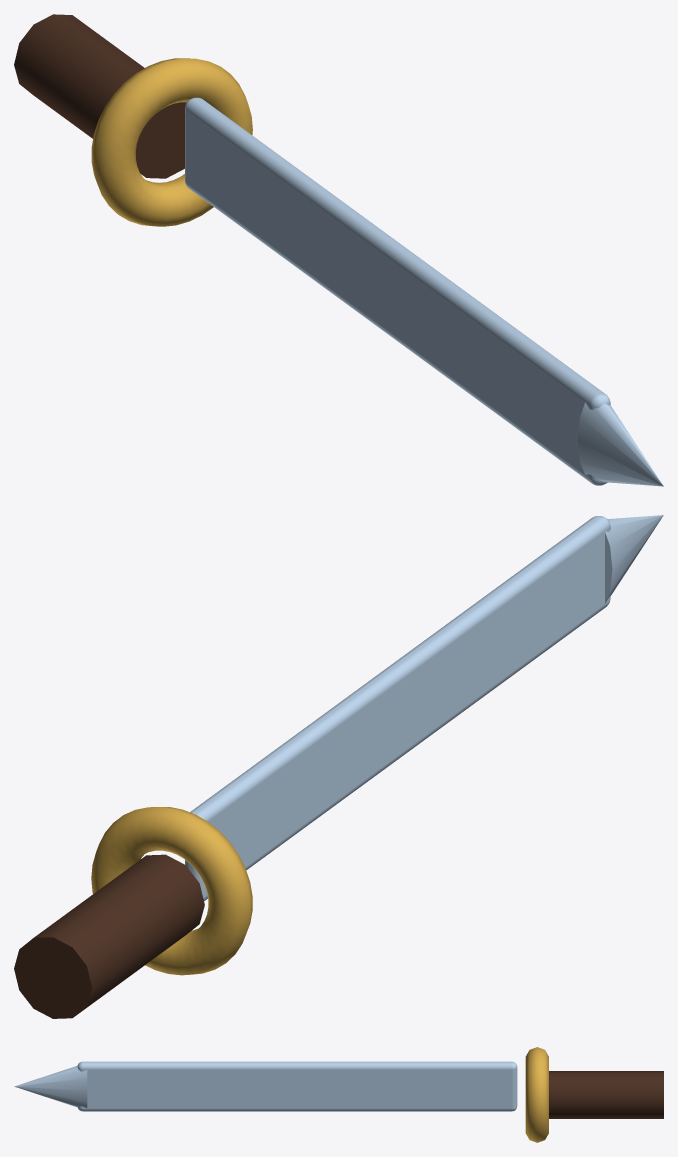
File: kid-blade.glb
The picture shows the model from 3 angles, top to bottom: view 1: azimuth 30°, elevation 25°; view 2: azimuth 150°, elevation 25°; view 3: azimuth 270°, elevation 25°; orthographic projection. The views are drawn at different scales.
Parts seen in each view (by area): view 1: kid-blade; view 2: kid-blade; view 3: kid-blade.
Boxes of the visible parts, x1=… form: kid-blade: x1=14, y1=14, x2=663, y2=486; kid-blade: x1=14, y1=515, x2=663, y2=1018; kid-blade: x1=14, y1=1047, x2=663, y2=1142.
Bounding box in the file's own units: 0.0719 × 0.0719 × 0.4875.
